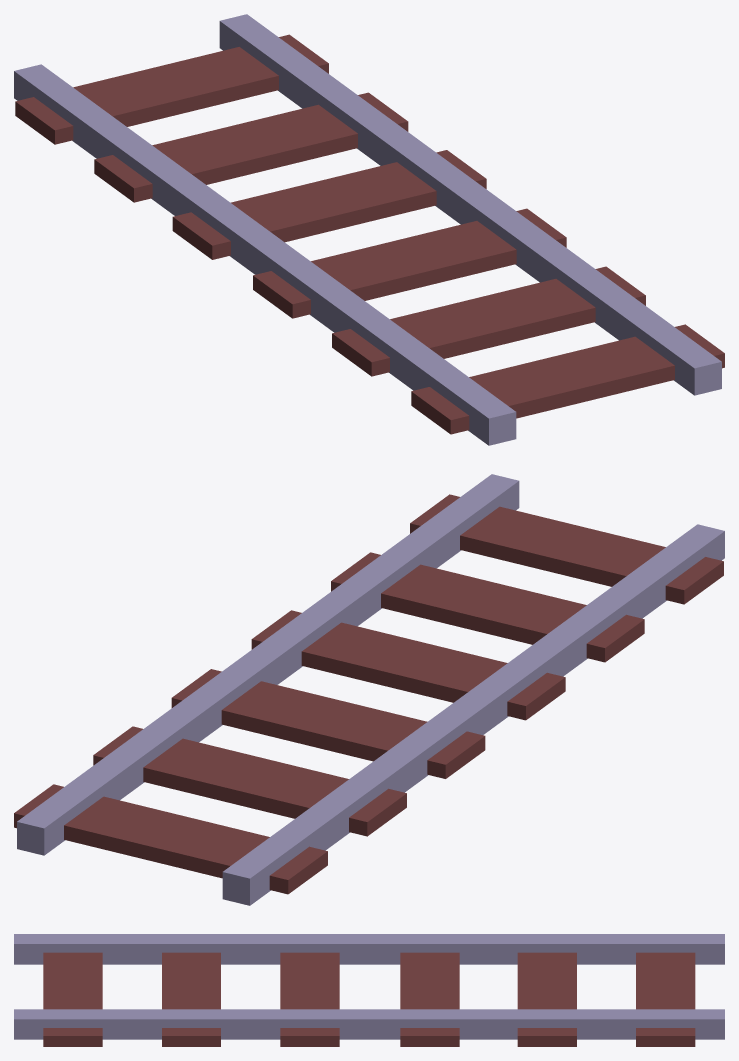
The model's file is railway.gltf.
3 renders of one model, top to bottom at view 1: azimuth 30°, elevation 25°; view 2: azimuth 150°, elevation 25°; view 3: azimuth 270°, elevation 25°, orthographic. The views are drawn at different scales.
Visible parts, largest first — view 1: Cube, Cube.001, Cube.006, Cube.003, Cube.004, Cube.007, Cube.008, Cube.005; view 2: Cube.001, Cube, Cube.007, Cube.008, Cube.003, Cube.006, Cube.005, Cube.004; view 3: Cube, Cube.001, Cube.003, Cube.006, Cube.008, Cube.004, Cube.007, Cube.005.
Boxes of the visible parts, box(x1,y1,x2,y2) form: Cube: box(219, 14, 721, 395); Cube.001: box(14, 64, 516, 445); Cube.006: box(411, 324, 724, 434); Cube.003: box(172, 150, 486, 259); Cube.004: box(94, 92, 408, 202); Cube.007: box(15, 34, 328, 144); Cube.008: box(253, 208, 566, 318); Cube.005: box(332, 266, 645, 376); Cube.001: box(222, 524, 724, 905); Cube: box(17, 474, 519, 855); Cube.007: box(14, 784, 327, 894); Cube.008: box(251, 610, 565, 720); Cube.003: box(171, 669, 485, 778); Cube.006: box(410, 494, 723, 604); Cube.005: box(331, 552, 644, 662); Cube.004: box(93, 726, 406, 836); Cube: box(14, 1009, 724, 1039); Cube.001: box(14, 934, 724, 964); Cube.003: box(400, 952, 459, 1046); Cube.006: box(43, 952, 102, 1046); Cube.008: box(280, 952, 339, 1046); Cube.004: box(517, 952, 576, 1046); Cube.007: box(636, 952, 695, 1046); Cube.005: box(162, 952, 220, 1046).
Size of the model in its own units: 2 by 0.19 by 6.
